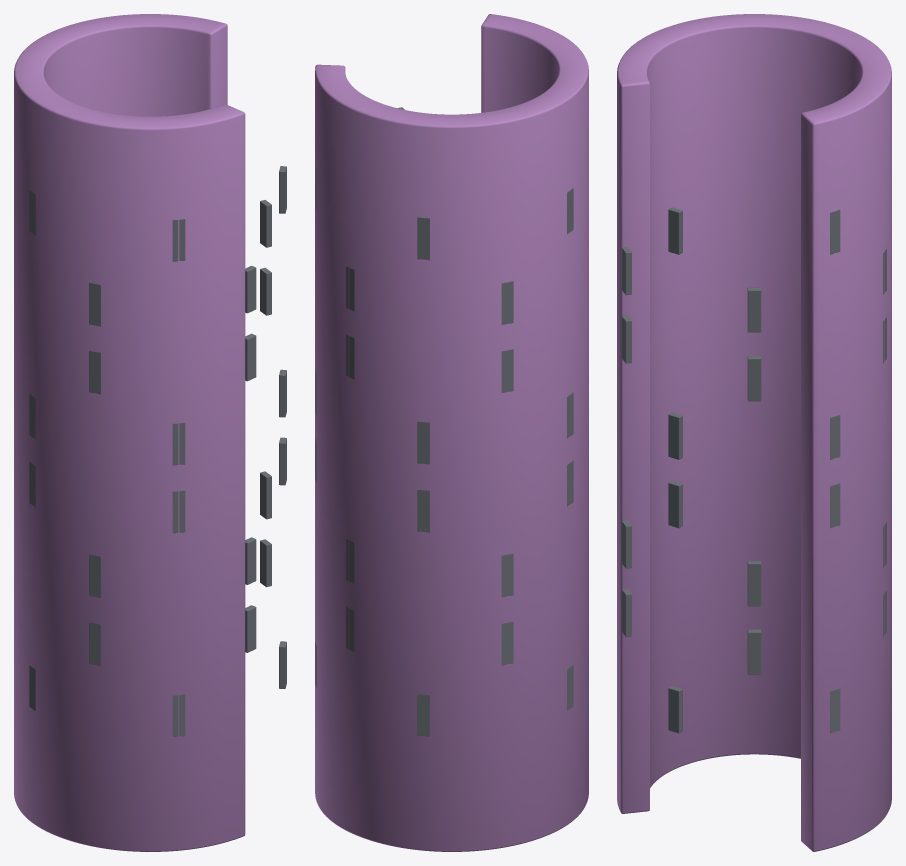
Rendered from slotted-liner.glb.
The picture shows the model from 3 angles, left to right: view 1: azimuth 30°, elevation 25°; view 2: azimuth 150°, elevation 25°; view 3: azimuth 270°, elevation 25°; orthographic projection.
Visible parts, largest first — view 1: Slotted liner, Longitudinal slot.018, Longitudinal slot.023, Longitudinal slot.038, Longitudinal slot.003, Longitudinal slot.005, Longitudinal slot.025, Longitudinal slot.030, Longitudinal slot.010, Longitudinal slot.029, Longitudinal slot.034, Longitudinal slot.009 (+1 smaller); view 2: Slotted liner, Longitudinal slot.016, Longitudinal slot.021, Longitudinal slot.036, Longitudinal slot.001, Longitudinal slot.012, Longitudinal slot.032, Longitudinal slot.007, Longitudinal slot.027; view 3: Slotted liner, Longitudinal slot.005, Longitudinal slot.010, Longitudinal slot.025, Longitudinal slot.030, Longitudinal slot.004, Longitudinal slot.019, Longitudinal slot.024, Longitudinal slot.039.
Part boxes in pixels (x1=…): Slotted liner: x1=14, y1=14, x2=245, y2=851; Longitudinal slot.018: x1=172, y1=422, x2=185, y2=465; Longitudinal slot.023: x1=172, y1=490, x2=185, y2=533; Longitudinal slot.038: x1=172, y1=694, x2=185, y2=736; Longitudinal slot.003: x1=172, y1=219, x2=185, y2=261; Longitudinal slot.005: x1=260, y1=200, x2=271, y2=247; Longitudinal slot.025: x1=260, y1=471, x2=271, y2=519; Longitudinal slot.030: x1=260, y1=539, x2=271, y2=587; Longitudinal slot.010: x1=260, y1=267, x2=271, y2=315; Longitudinal slot.029: x1=245, y1=537, x2=256, y2=584; Longitudinal slot.034: x1=245, y1=605, x2=256, y2=652; Longitudinal slot.009: x1=245, y1=265, x2=256, y2=313; Slotted liner: x1=315, y1=14, x2=588, y2=851; Longitudinal slot.016: x1=417, y1=421, x2=429, y2=464; Longitudinal slot.021: x1=417, y1=489, x2=429, y2=532; Longitudinal slot.036: x1=417, y1=693, x2=429, y2=736; Longitudinal slot.001: x1=417, y1=217, x2=429, y2=260; Longitudinal slot.012: x1=501, y1=349, x2=513, y2=392; Longitudinal slot.032: x1=501, y1=621, x2=513, y2=665; Longitudinal slot.007: x1=501, y1=281, x2=513, y2=324; Longitudinal slot.027: x1=501, y1=553, x2=513, y2=597; Slotted liner: x1=617, y1=14, x2=891, y2=851; Longitudinal slot.005: x1=747, y1=287, x2=761, y2=332; Longitudinal slot.010: x1=747, y1=356, x2=761, y2=401; Longitudinal slot.025: x1=747, y1=561, x2=761, y2=606; Longitudinal slot.030: x1=747, y1=629, x2=761, y2=674; Longitudinal slot.004: x1=668, y1=207, x2=682, y2=254; Longitudinal slot.019: x1=668, y1=412, x2=682, y2=459; Longitudinal slot.024: x1=668, y1=480, x2=682, y2=528; Longitudinal slot.039: x1=668, y1=686, x2=682, y2=733.
Bounding box in the file's own units: 1.64 × 4.8 × 1.64.
